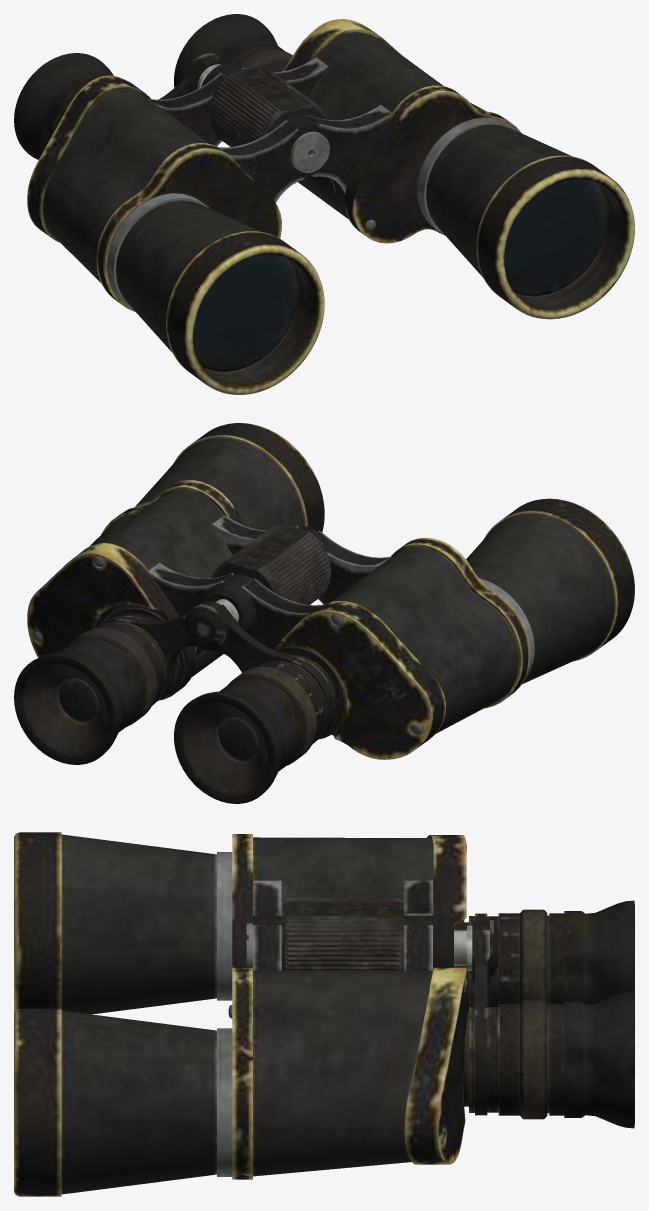
3 renders of one model, top to bottom at view 1: azimuth 30°, elevation 25°; view 2: azimuth 150°, elevation 25°; view 3: azimuth 270°, elevation 25°, orthographic. The views are drawn at different scales.
Parts seen in each view (by area): view 1: vintage_binocular_right_prism, vintage_binocular_left_prism, vintage_binocular_right_lens, vintage_binocular_focus, vintage_binocular_left_lens, vintage_binocular_middle; view 2: vintage_binocular_right_prism, vintage_binocular_left_prism, vintage_binocular_left_lens, vintage_binocular_right_lens, vintage_binocular_focus, vintage_binocular_diopter, vintage_binocular_eye_relief, vintage_binocular_middle; view 3: vintage_binocular_left_prism, vintage_binocular_right_prism, vintage_binocular_left_lens, vintage_binocular_right_lens, vintage_binocular_focus, vintage_binocular_diopter, vintage_binocular_middle, vintage_binocular_eye_relief.
Boxes of the visible parts, bbox=[...] form: vintage_binocular_right_prism: bbox=[27, 73, 324, 394]; vintage_binocular_left_prism: bbox=[223, 19, 634, 319]; vintage_binocular_right_lens: bbox=[14, 53, 224, 159]; vintage_binocular_focus: bbox=[209, 67, 328, 146]; vintage_binocular_left_lens: bbox=[174, 14, 292, 87]; vintage_binocular_middle: bbox=[201, 63, 329, 172]; vintage_binocular_right_prism: bbox=[228, 498, 634, 759]; vintage_binocular_left_prism: bbox=[27, 423, 324, 700]; vintage_binocular_left_lens: bbox=[14, 600, 217, 764]; vintage_binocular_right_lens: bbox=[174, 601, 336, 803]; vintage_binocular_focus: bbox=[211, 525, 330, 604]; vintage_binocular_diopter: bbox=[227, 661, 324, 765]; vintage_binocular_eye_relief: bbox=[184, 599, 239, 650]; vintage_binocular_middle: bbox=[200, 582, 256, 633]; vintage_binocular_left_prism: bbox=[14, 915, 466, 1196]; vintage_binocular_right_prism: bbox=[14, 832, 466, 1018]; vintage_binocular_left_lens: bbox=[463, 923, 634, 1128]; vintage_binocular_right_lens: bbox=[456, 900, 634, 1012]; vintage_binocular_focus: bbox=[281, 898, 404, 970]; vintage_binocular_diopter: bbox=[498, 909, 547, 1003]; vintage_binocular_middle: bbox=[246, 914, 453, 970]; vintage_binocular_eye_relief: bbox=[454, 920, 498, 976].
Bounding box in the file's own units: 0.194 × 0.0684 × 0.1992.
Materials: 1 (1 with a texture image).
